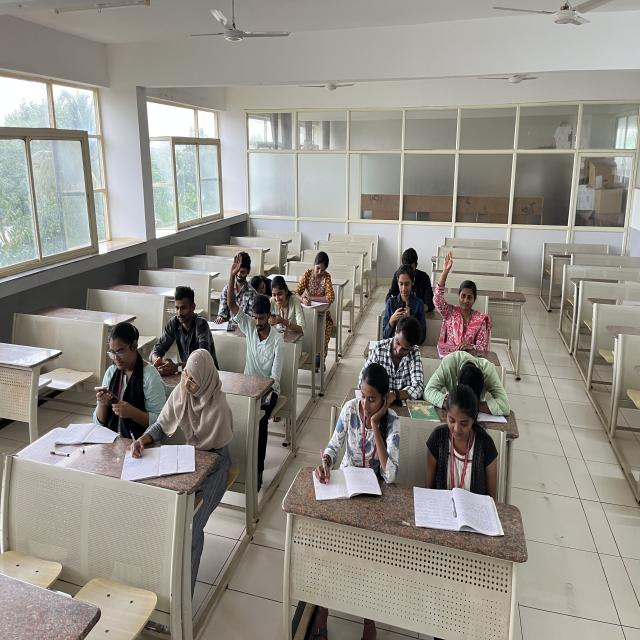Hand Rising: (223, 253, 287, 372), (431, 243, 498, 355)
Reading: (418, 383, 512, 540)
Sleeping: (426, 346, 514, 417)
Using Phone: (81, 318, 153, 422), (376, 262, 428, 319)
Writing: (304, 363, 403, 507), (133, 350, 228, 470), (293, 250, 337, 312)
